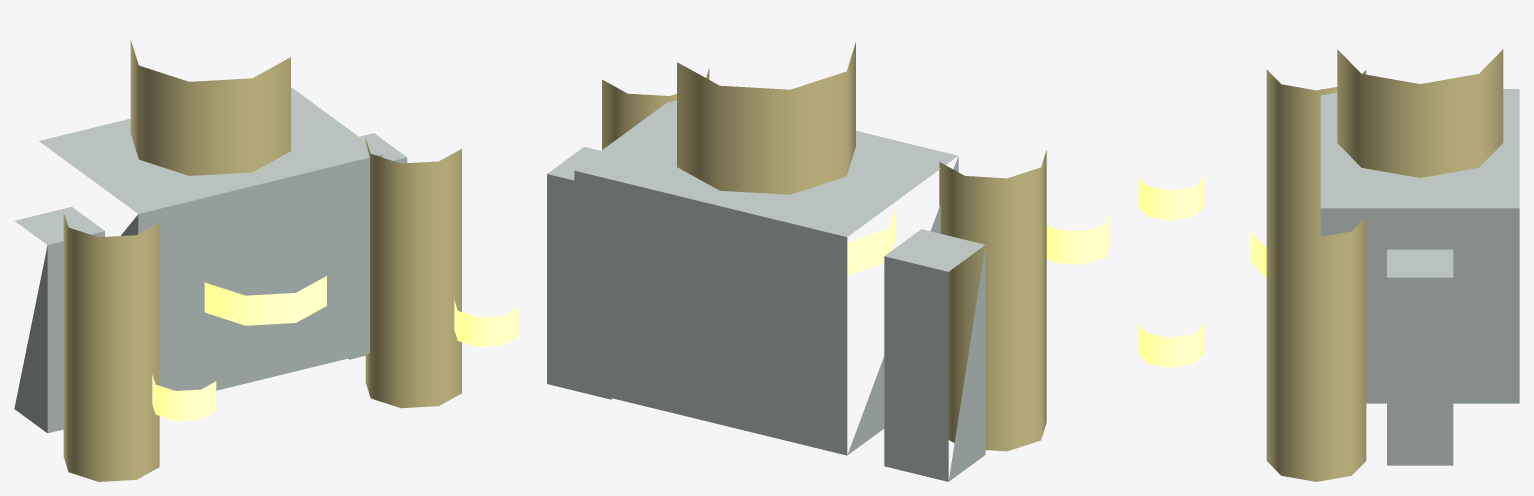
Rendered from golem_luminous_04.glb.
3 renders of one model, left to right at view 1: azimuth 30°, elevation 25°; view 2: azimuth 150°, elevation 25°; view 3: azimuth 270°, elevation 25°, orthographic. The views are drawn at different scales.
Visible parts, largest first — view 1: LuminousGold, LuminousChrome, LuminousGlow; view 2: LuminousChrome, LuminousGold, LuminousGlow; view 3: LuminousGold, LuminousChrome, LuminousGlow.
Part boxes in pixels (x1=…): LuminousGold: x1=63, y1=40, x2=461, y2=481; LuminousChrome: x1=14, y1=87, x2=407, y2=433; LuminousGlow: x1=152, y1=276, x2=518, y2=420; LuminousChrome: x1=547, y1=100, x2=985, y2=481; LuminousGold: x1=602, y1=42, x2=1046, y2=451; LuminousGlow: x1=847, y1=206, x2=1109, y2=275; LuminousGold: x1=1266, y1=49, x2=1503, y2=481; LuminousChrome: x1=1320, y1=89, x2=1519, y2=465; LuminousGlow: x1=1138, y1=177, x2=1266, y2=367.
Bounding box in the file's own units: 1.08 × 0.9 × 0.92.
